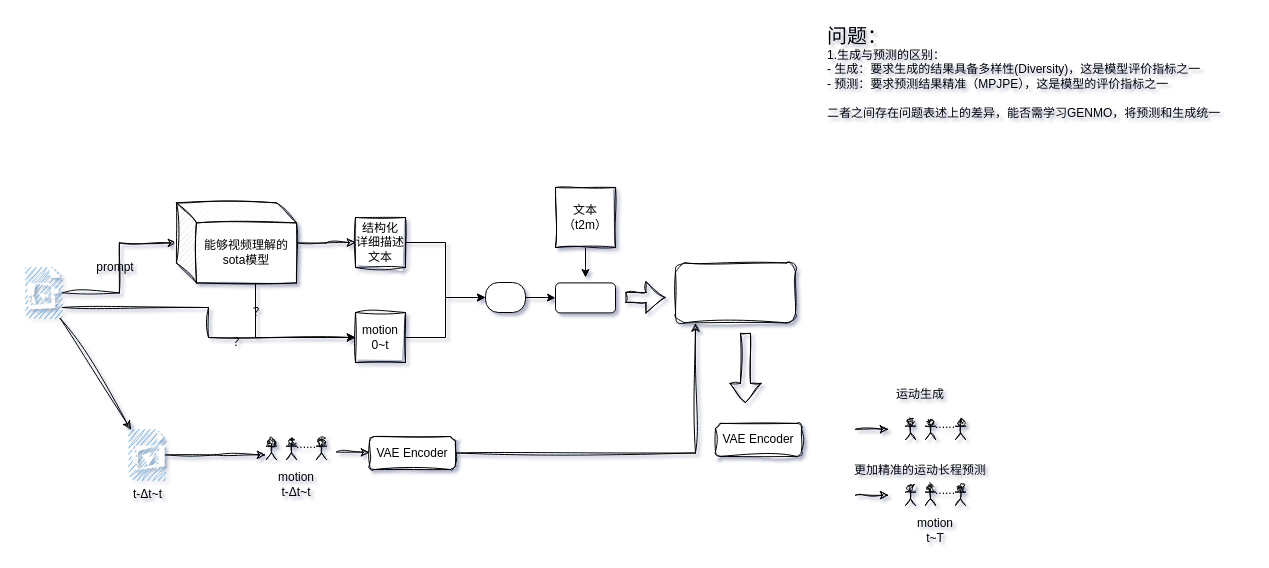
Image size: 1269x568. Some labels were removed from this diagram. Each missing label, with the centre of its shape:
"tokenizer" belongs at (585,297).
"Transformer" belongs at (735,292).
"融合" belongs at (505,297).
"视频：0~t" belongs at (43,292).
